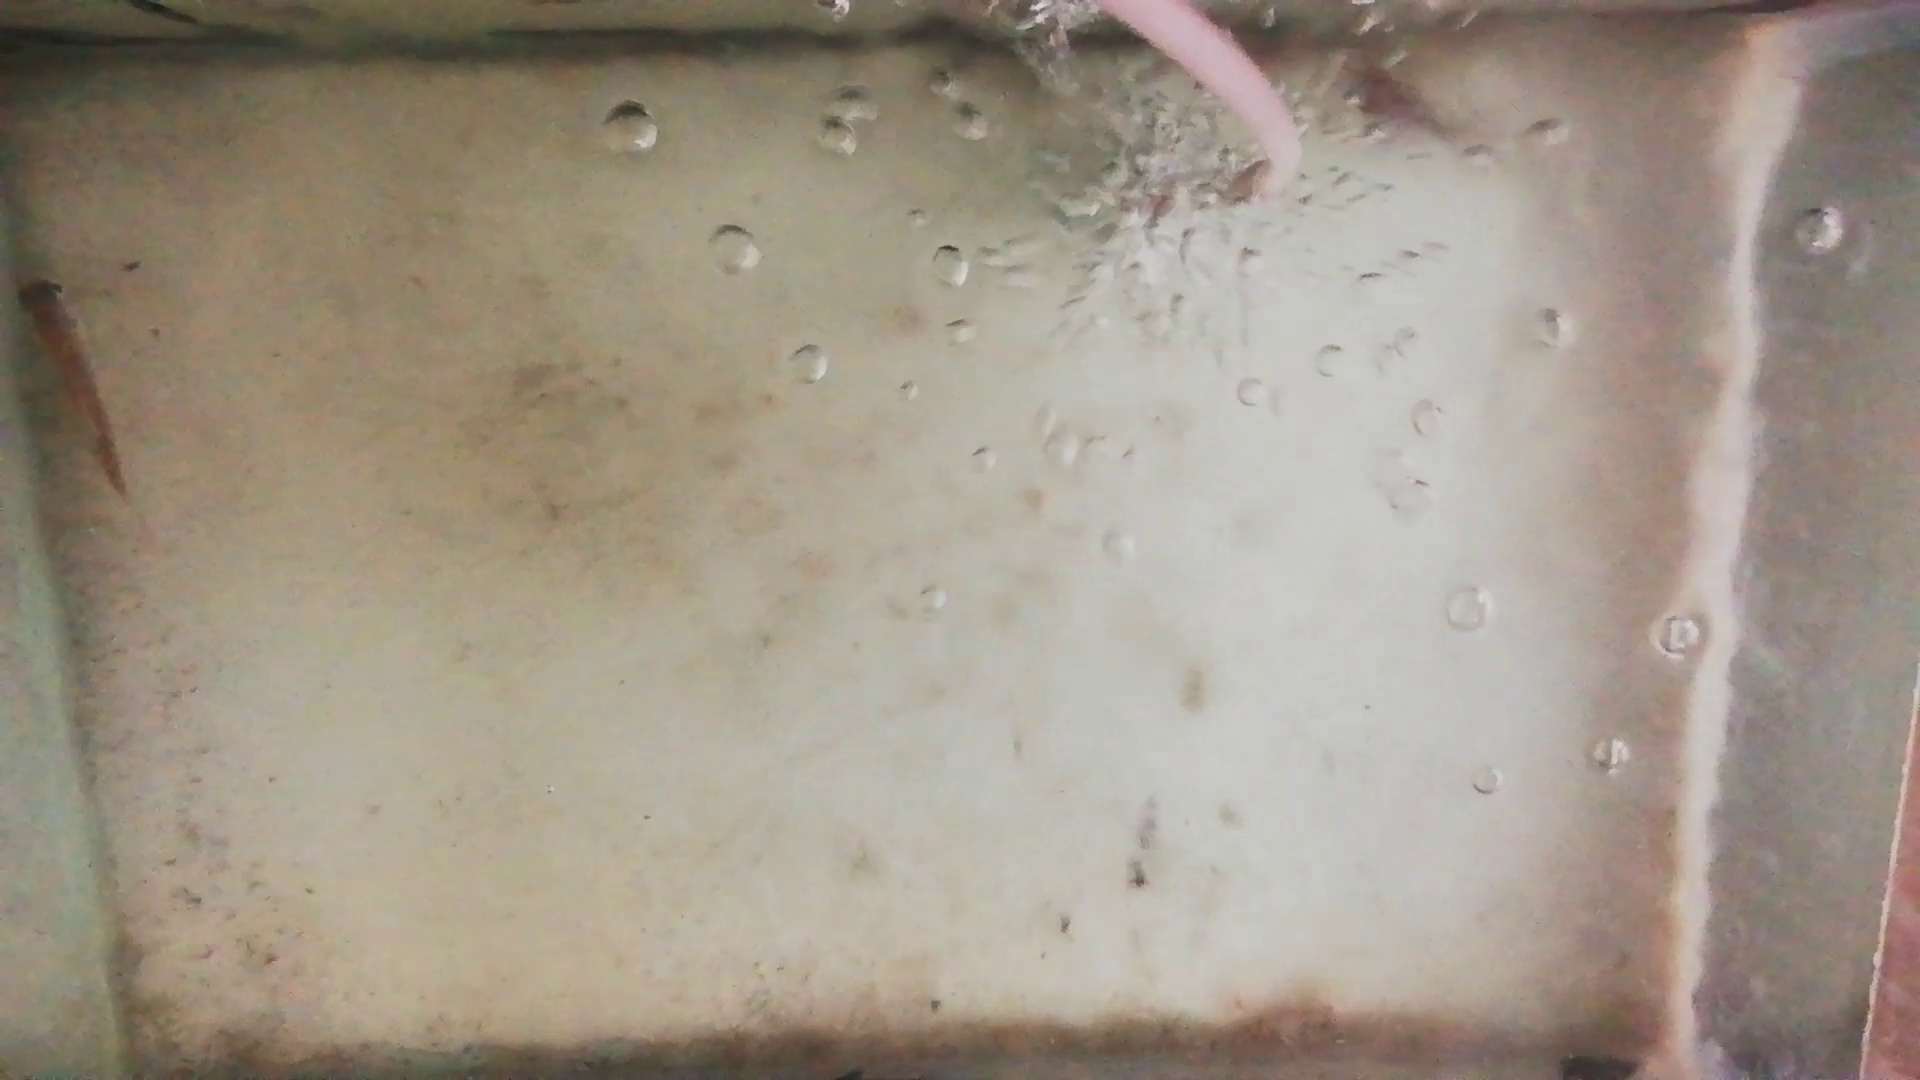fish: (15, 266, 131, 497), (1342, 66, 1458, 131)
